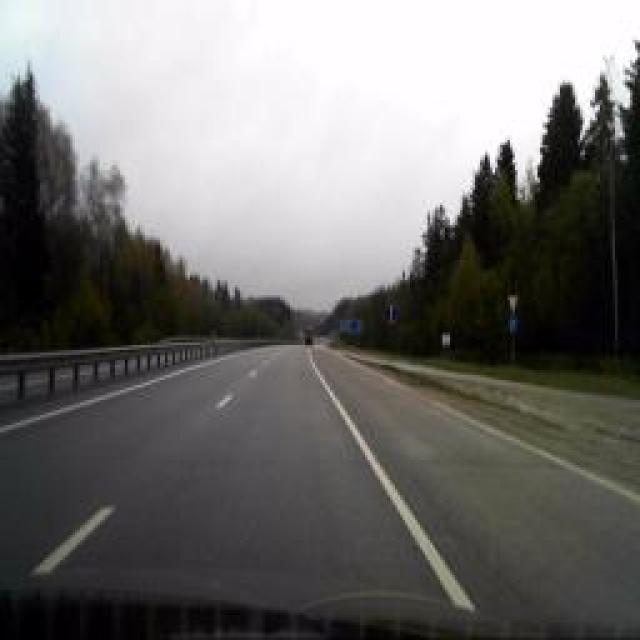sign: (384, 302, 396, 322), (508, 315, 518, 333)
